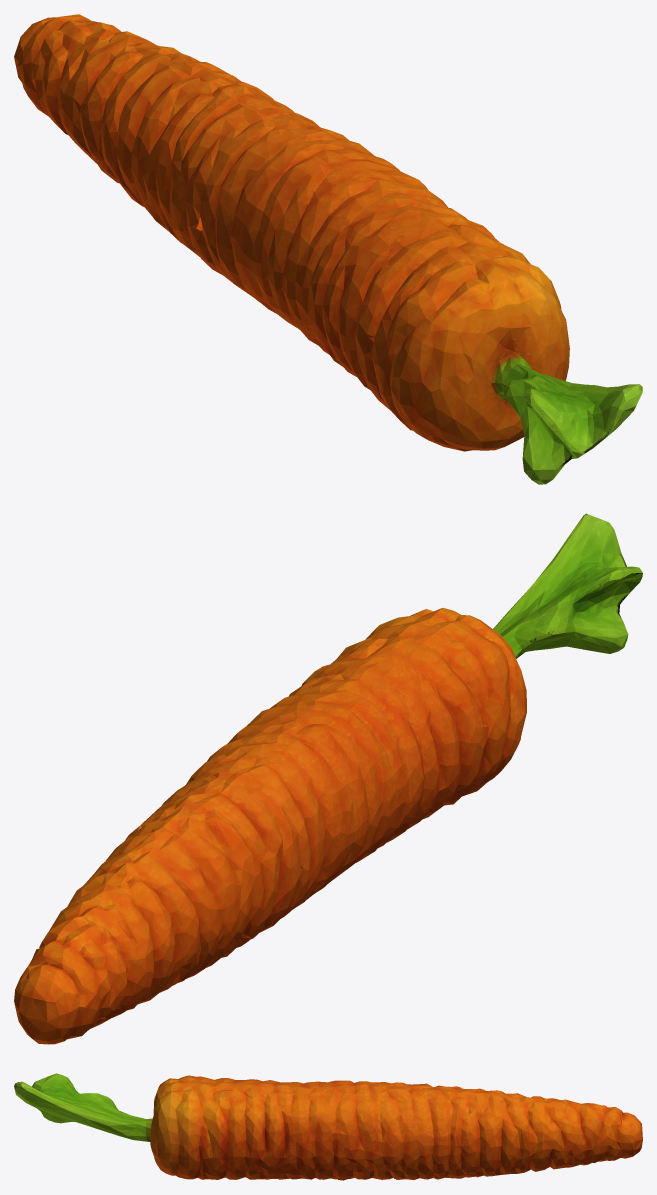
The model's file is carriot_sim.glb.
3 renders of one model, top to bottom at view 1: azimuth 30°, elevation 25°; view 2: azimuth 150°, elevation 25°; view 3: azimuth 270°, elevation 25°, orthographic. The views are drawn at different scales.
Parts seen in each view (by area): view 1: world; view 2: world; view 3: world.
Part boxes in pixels (<box>): world: <box>14,14,642,484</box>; world: <box>14,513,642,1044</box>; world: <box>14,1073,642,1180</box>.
Bounding box in the file's own units: 0.035 × 0.035 × 0.21.
1 material, 1 textured.
